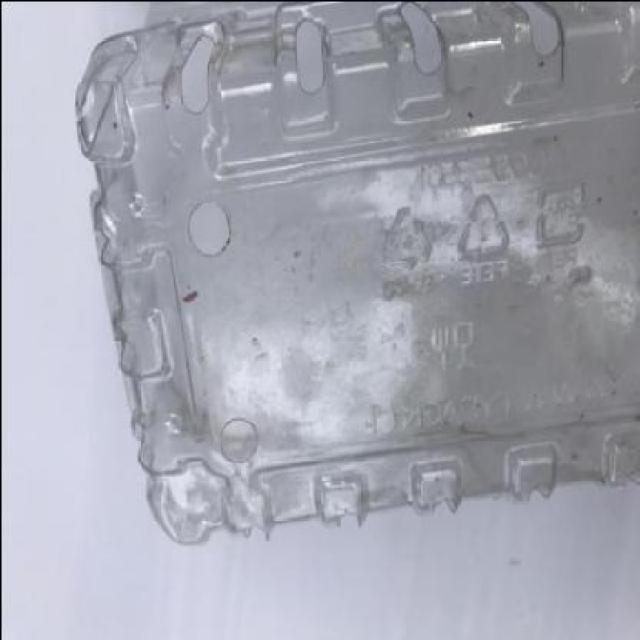PLASTIC: (72, 2, 639, 544)
